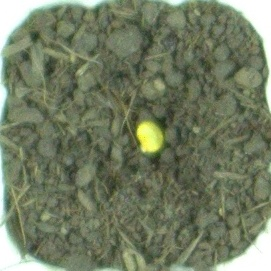chilli seed: (135, 119, 165, 154)
